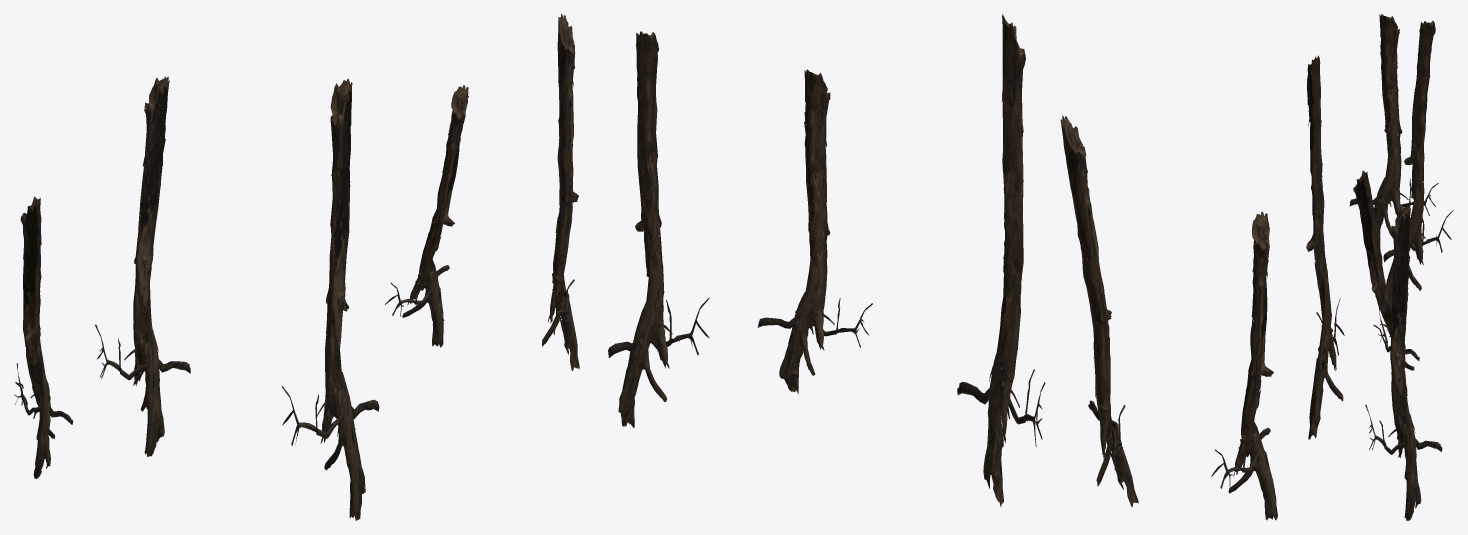
Rendered from RF3_River_Stake_Cluster.fbx.
3 renders of one model, left to right at view 1: azimuth 30°, elevation 25°; view 2: azimuth 150°, elevation 25°; view 3: azimuth 270°, elevation 25°, orthographic. The views are drawn at different scales.
Visible parts, largest first — view 1: RF3_River_Stake_Cluster; view 2: RF3_River_Stake_Cluster; view 3: RF3_River_Stake_Cluster.
Part boxes in pixels (box(x1,y1,x2,y2)): RF3_River_Stake_Cluster: box(14, 14, 579, 520); RF3_River_Stake_Cluster: box(608, 14, 1277, 520); RF3_River_Stake_Cluster: box(1306, 14, 1453, 520).
Bounding box in the file's own units: 296 × 220 × 77.07.
